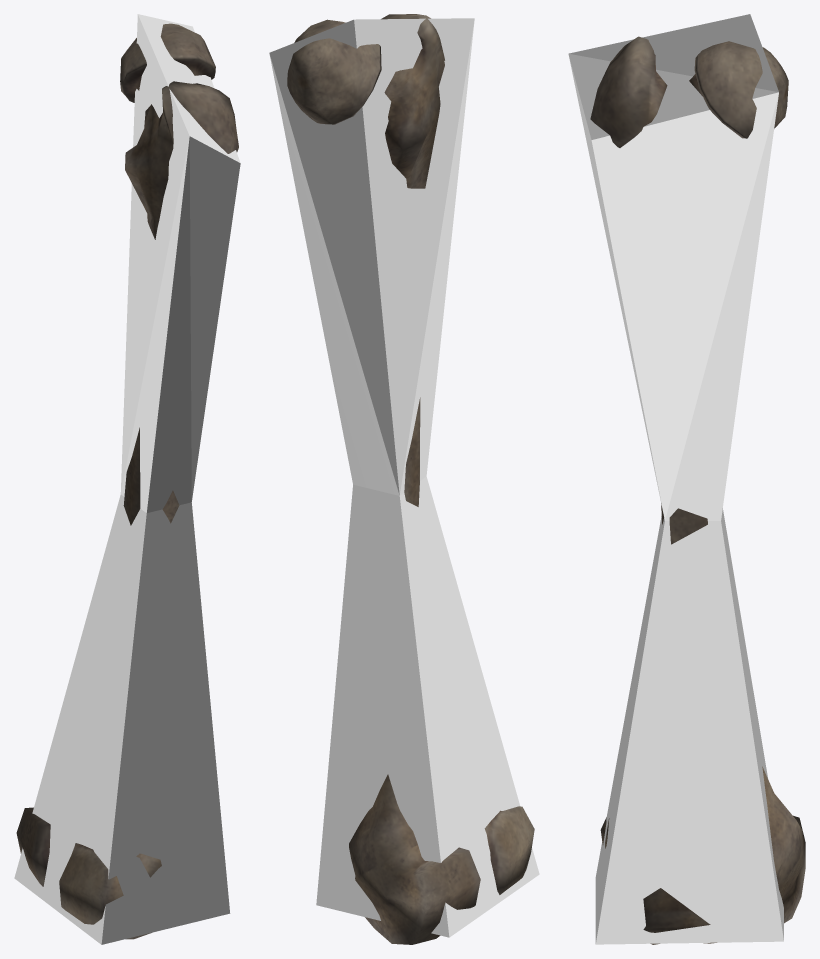
Rendered from SM_Bone_02_01.fbx.
3 renders of one model, left to right at view 1: azimuth 30°, elevation 25°; view 2: azimuth 150°, elevation 25°; view 3: azimuth 270°, elevation 25°, orthographic. The views are drawn at different scales.
Visible parts, largest first — view 1: sm_Bone_02_01_ConvexHulls, sm_Bone_02_01_LOD0; view 2: sm_Bone_02_01_ConvexHulls, sm_Bone_02_01_LOD0; view 3: sm_Bone_02_01_ConvexHulls, sm_Bone_02_01_LOD0.
Part boxes in pixels (x1,y1,x2,y2): sm_Bone_02_01_ConvexHulls: [14, 14, 240, 944]; sm_Bone_02_01_LOD0: [16, 23, 238, 939]; sm_Bone_02_01_ConvexHulls: [269, 18, 539, 937]; sm_Bone_02_01_LOD0: [287, 14, 534, 944]; sm_Bone_02_01_ConvexHulls: [568, 14, 783, 944]; sm_Bone_02_01_LOD0: [590, 36, 805, 944].
Size of the model in its own units: 13.12 by 59.88 by 13.67.
